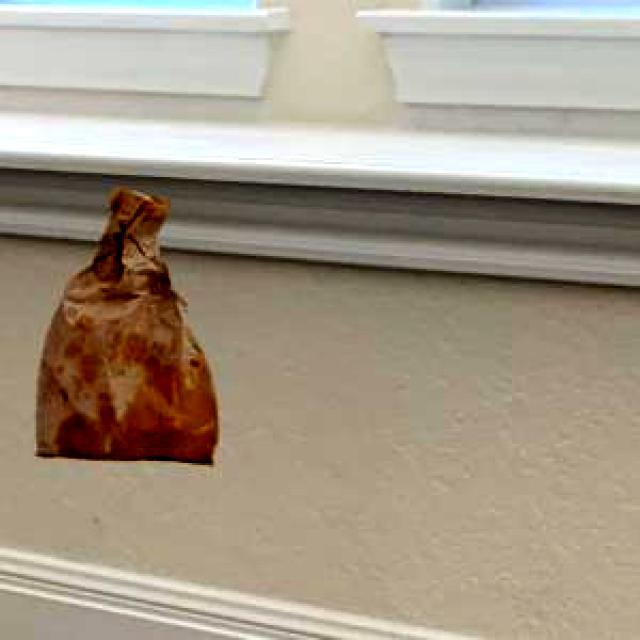Paper_Bag: (33, 187, 214, 462)
